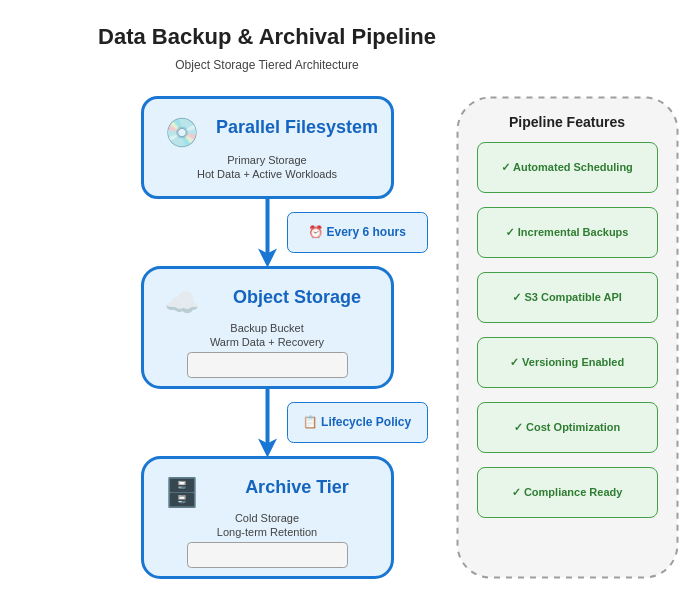
Image size: 695x596. Some labels were removed from this diagram. Here are the shapes that lost their labels. From the top down, the centre of each, then its label:
point 267,365: Retention: 30 days
point 267,555: Retention: 12-24 months
